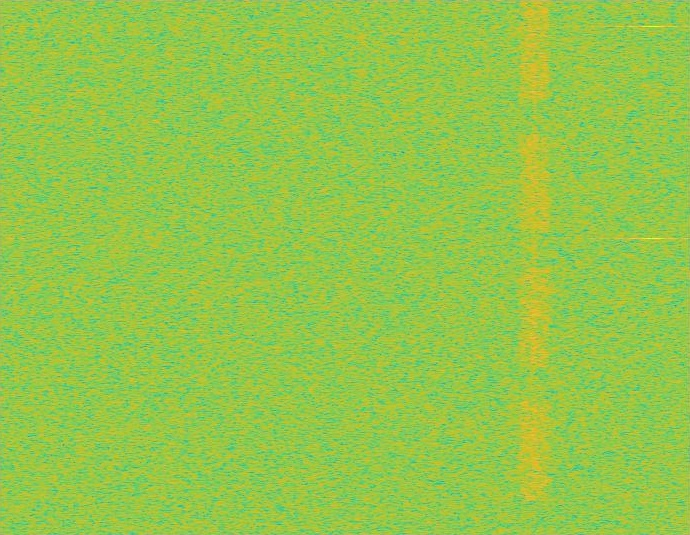5G: (517, 0, 552, 534)
DSSS: (532, 0, 537, 534)
Radar: (646, 0, 660, 534)
